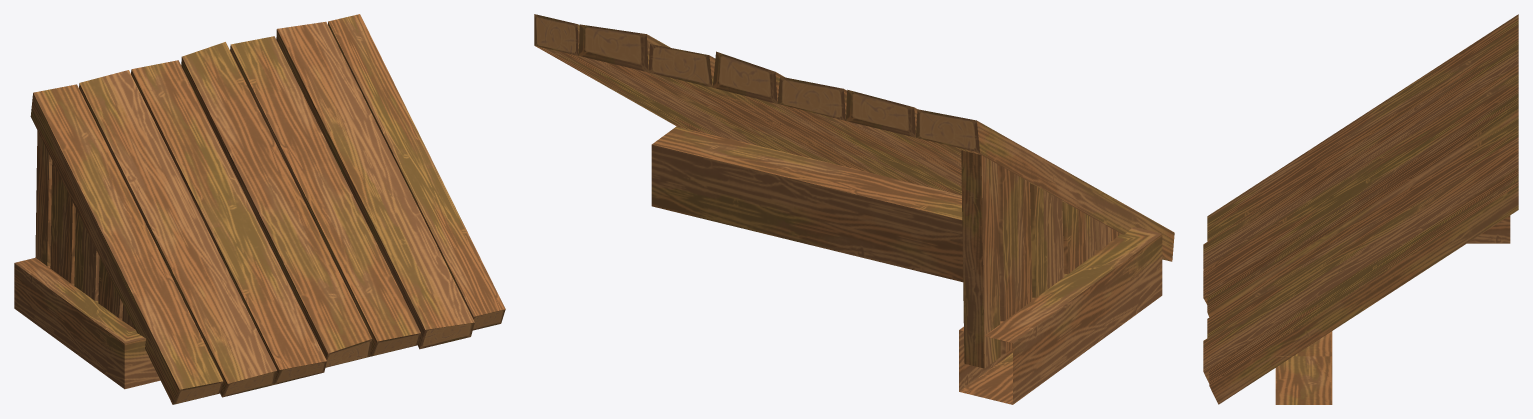
The model's file is Roof_Wooden_2x1_L.gltf.
The picture shows the model from 3 angles, left to right: view 1: azimuth 30°, elevation 25°; view 2: azimuth 150°, elevation 25°; view 3: azimuth 270°, elevation 25°; orthographic projection. The views are drawn at different scales.
Parts seen in each view (by area): view 1: Roof_Wooden_2x1_L; view 2: Roof_Wooden_2x1_L; view 3: Roof_Wooden_2x1_L.
Boxes of the visible parts, box(x1,y1,x2,y2) form: Roof_Wooden_2x1_L: box(14, 14, 505, 404); Roof_Wooden_2x1_L: box(534, 14, 1174, 404); Roof_Wooden_2x1_L: box(1203, 14, 1518, 404).
Size of the model in its own units: 2.13 by 1.25 by 1.56.
Materials: 2 (2 with a texture image).
